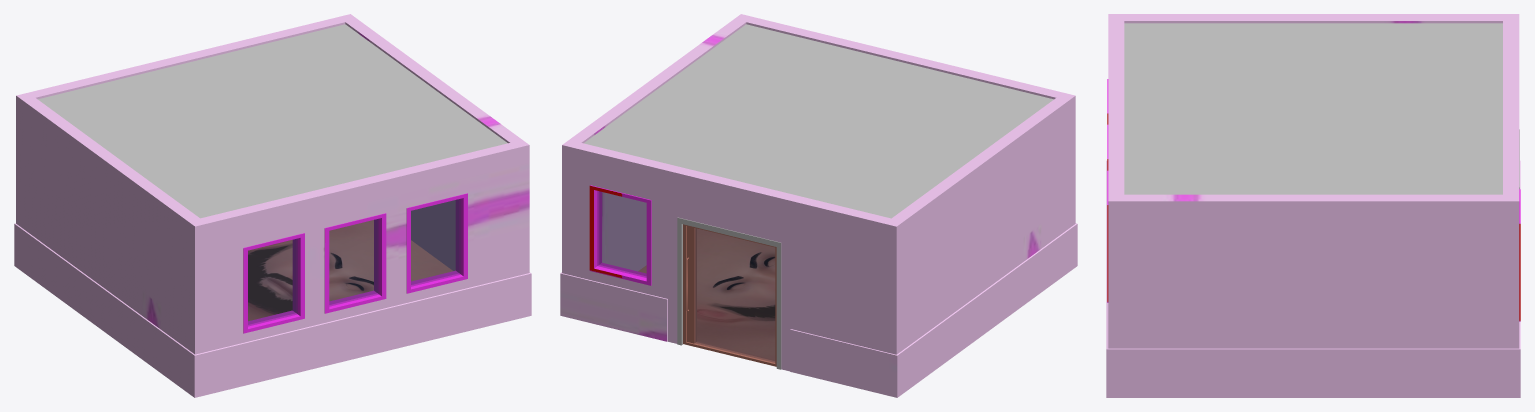
File: store.fbx
3 renders of one model, left to right at view 1: azimuth 30°, elevation 25°; view 2: azimuth 150°, elevation 25°; view 3: azimuth 270°, elevation 25°, orthographic. The views are drawn at different scales.
Visible parts, largest first — view 1: Store, Roof, Glass, Floor, Window003, Window002, Window001; view 2: Store, Roof, Glass, Floor, AutomaticDoor, Window, BaseDoor; view 3: Store, Roof.
Part boxes in pixels (x1=…): Store: x1=14, y1=14, x2=531, y2=397; Roof: x1=38, y1=24, x2=507, y2=218; Glass: x1=248, y1=199, x2=460, y2=326; Floor: x1=248, y1=220, x2=452, y2=320; Window003: x1=324, y1=213, x2=386, y2=313; Window002: x1=243, y1=233, x2=304, y2=333; Window001: x1=406, y1=193, x2=467, y2=293; Store: x1=560, y1=14, x2=1077, y2=397; Roof: x1=584, y1=24, x2=1053, y2=218; Glass: x1=597, y1=191, x2=775, y2=362; Floor: x1=638, y1=228, x2=775, y2=359; AutomaticDoor: x1=683, y1=224, x2=776, y2=366; Window: x1=589, y1=185, x2=651, y2=285; BaseDoor: x1=677, y1=217, x2=781, y2=369; Store: x1=1106, y1=14, x2=1520, y2=397; Roof: x1=1124, y1=23, x2=1502, y2=194.
Size of the model in its own units: 826 by 400 by 766.
